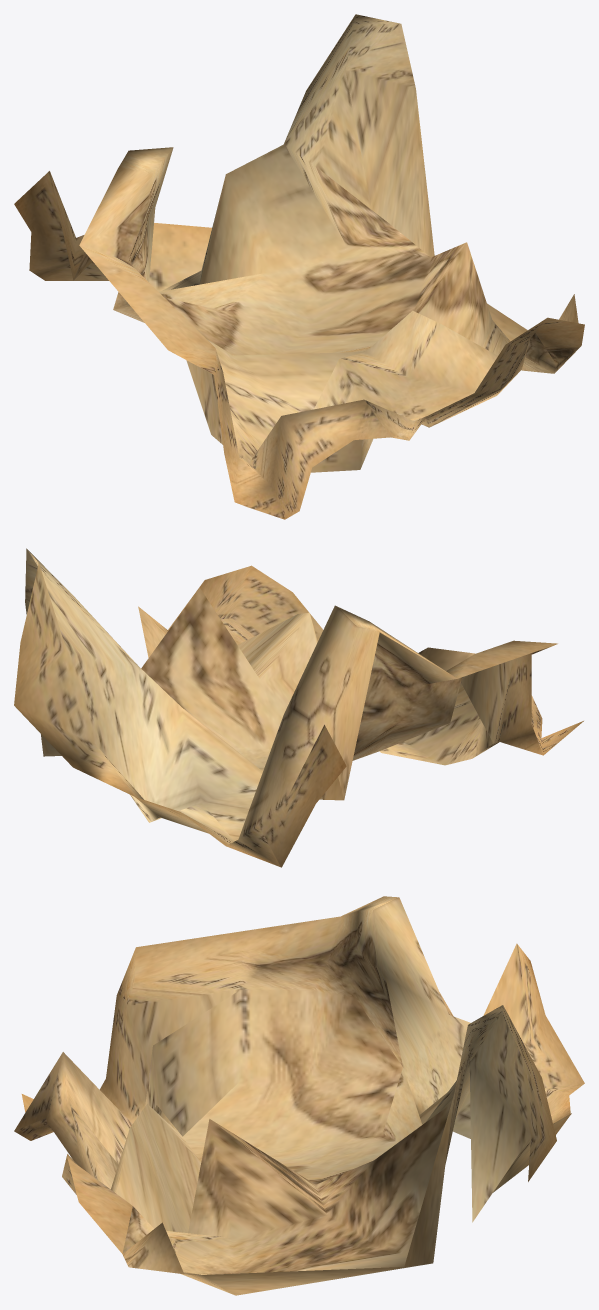
The model's file is SN_Research_Paper.004.fbx.
The picture shows the model from 3 angles, top to bottom: view 1: azimuth 30°, elevation 25°; view 2: azimuth 150°, elevation 25°; view 3: azimuth 270°, elevation 25°; orthographic projection. The views are drawn at different scales.
Visible parts, largest first — view 1: SN_Research_Paper.004; view 2: SN_Research_Paper.004; view 3: SN_Research_Paper.004.
Part boxes in pixels (x1,y1,x2,y2): SN_Research_Paper.004: (14, 14, 584, 519); SN_Research_Paper.004: (14, 548, 583, 867); SN_Research_Paper.004: (14, 896, 584, 1295).
Bounding box in the file's own units: 0.1647 × 0.1064 × 0.183.
